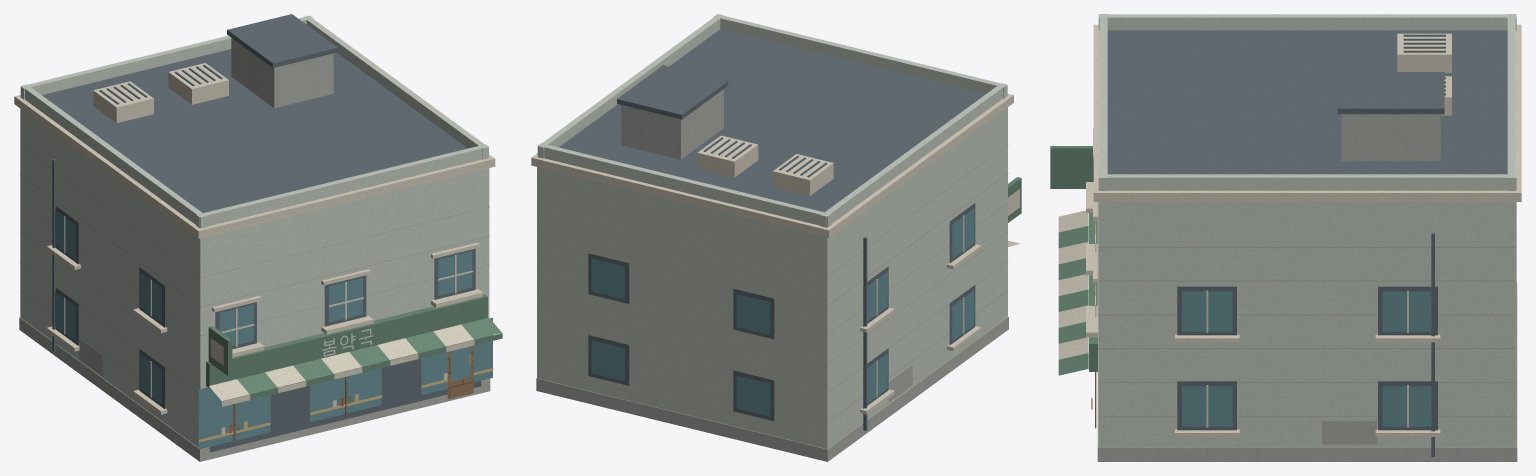
File: q01-pharmacy.glb
The picture shows the model from 3 angles, left to right: view 1: azimuth 30°, elevation 25°; view 2: azimuth 150°, elevation 25°; view 3: azimuth 270°, elevation 25°; orthographic projection. The views are drawn at different scales.
Bounding box in the file's own units: 8.14 × 7.21 × 9.47.
10 materials, 9 textured.
